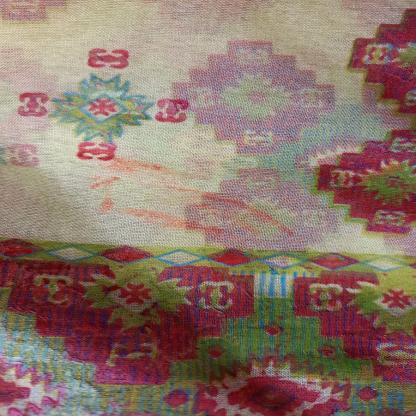spot: (84, 174, 303, 240), (117, 204, 230, 240), (101, 158, 192, 179), (102, 198, 118, 212)
